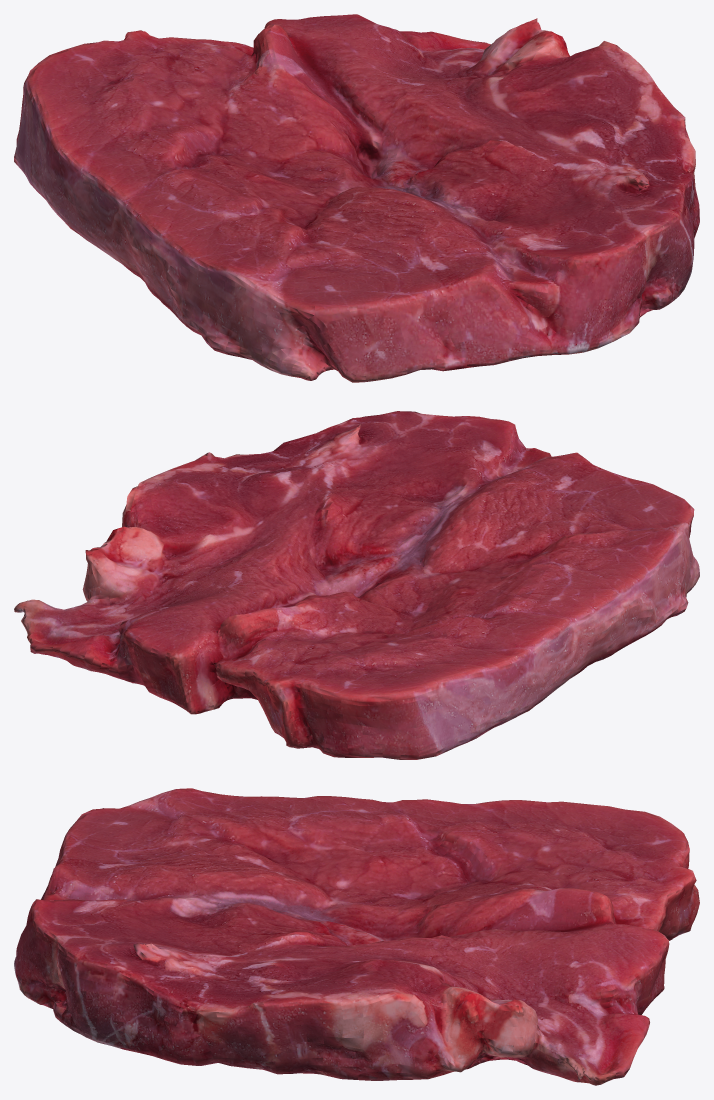
The model's file is beef.glb.
3 views of the same model, one above another, from view 1: azimuth 30°, elevation 25°; view 2: azimuth 150°, elevation 25°; view 3: azimuth 270°, elevation 25° (orthographic). The views are drawn at different scales.
Parts seen in each view (by area): view 1: beef; view 2: beef; view 3: beef.
Part boxes in pixels (x1,y1,x2,y2): beef: (14, 14, 699, 382); beef: (14, 411, 699, 759); beef: (14, 788, 699, 1085).
Bounding box in the file's own units: 0.2992 × 0.0527 × 0.3497.
Materials: 1 (1 with a texture image).
